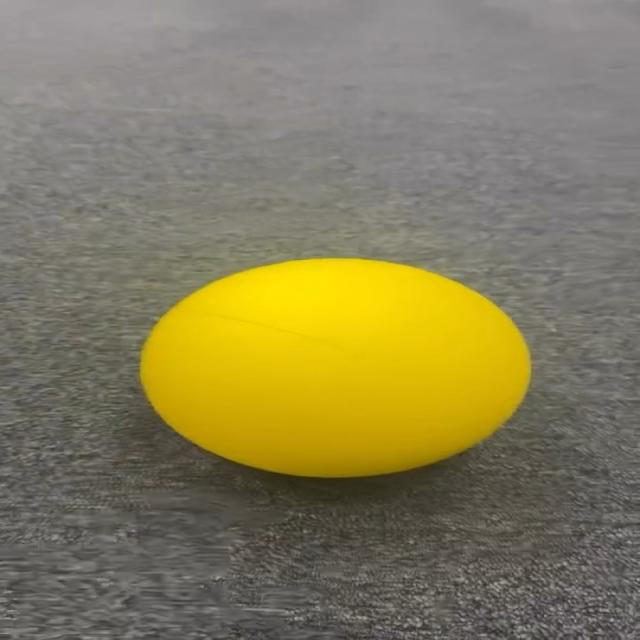Fuels: (138, 254, 526, 473)
